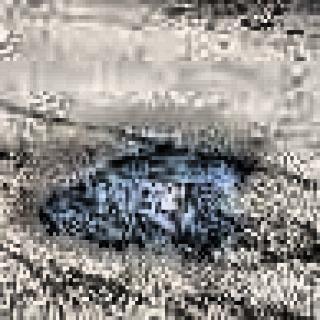pothole: (34, 121, 253, 269)
